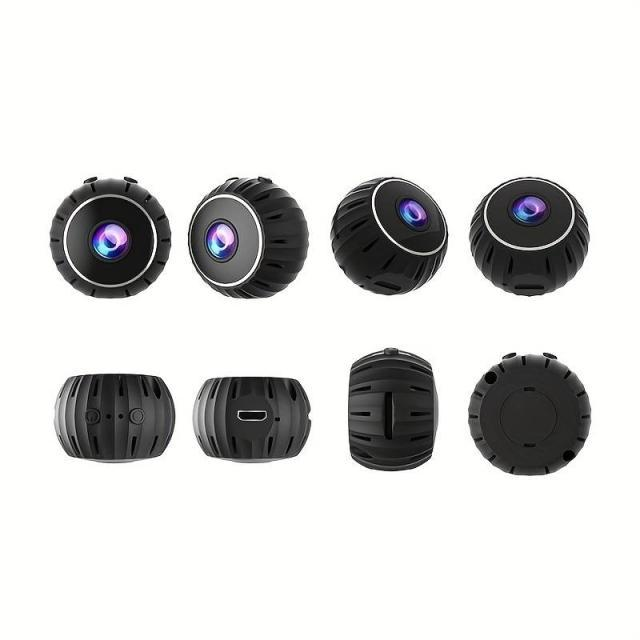hidden camera: (0, 115, 640, 507)
